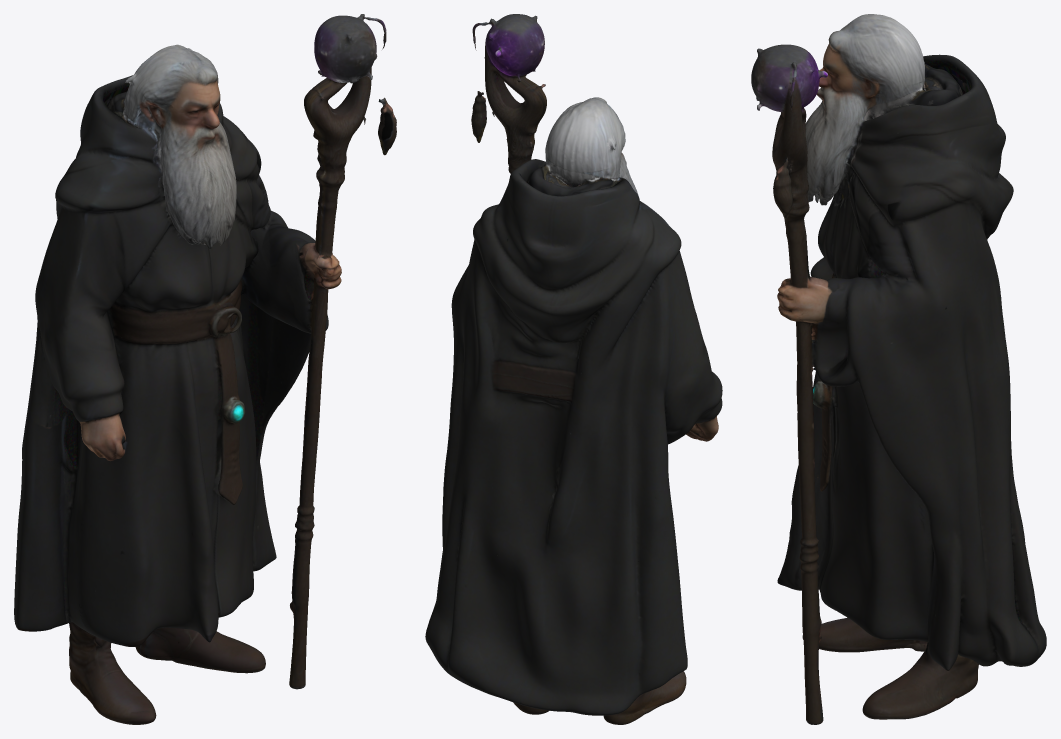
The model's file is mage1.glb.
3 renders of one model, left to right at view 1: azimuth 30°, elevation 25°; view 2: azimuth 150°, elevation 25°; view 3: azimuth 270°, elevation 25°, orthographic. The views are drawn at different scales.
Bounding box in the file's own units: 0.9314 × 1.95 × 0.7543.
Materials: 1 (1 with a texture image).
